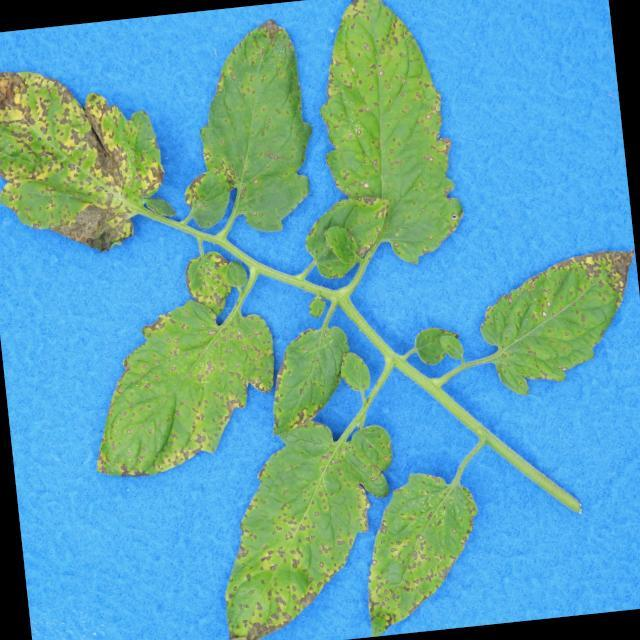Tomato Septoria spot leaf: (205, 411, 412, 640), (298, 0, 468, 270), (80, 289, 287, 482), (0, 54, 172, 266), (188, 13, 322, 240), (472, 246, 640, 400), (354, 466, 490, 634), (262, 322, 356, 436), (300, 192, 398, 284), (182, 249, 235, 319), (181, 167, 233, 230), (412, 324, 462, 366), (338, 349, 372, 394)
